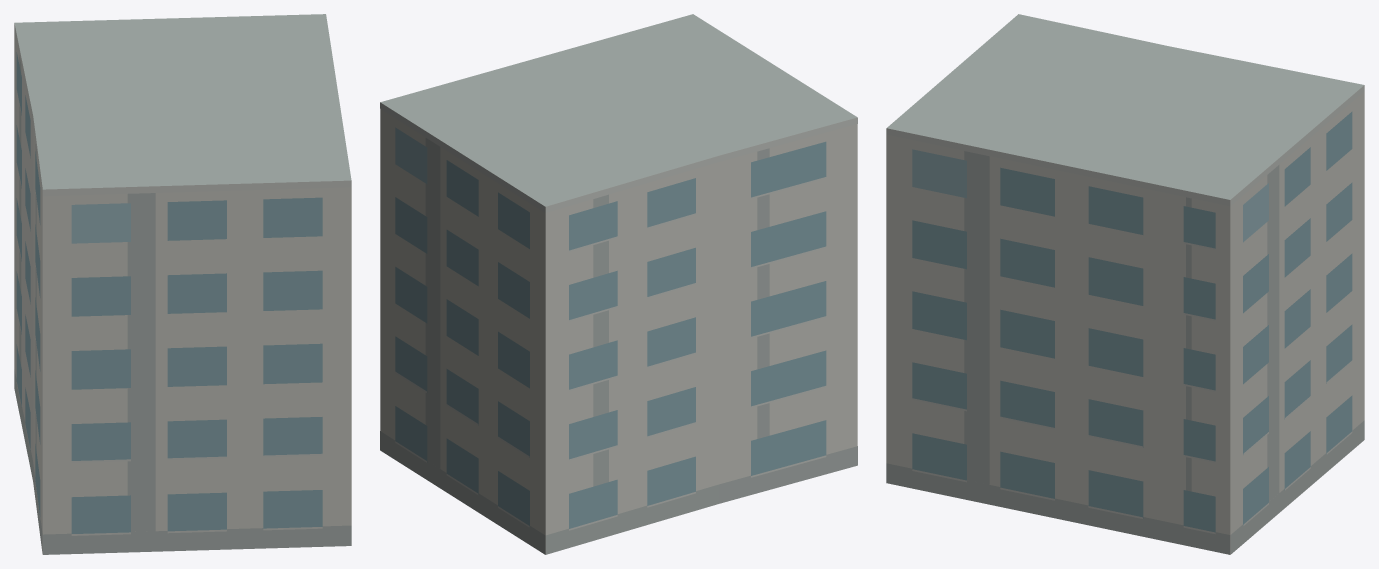
File: survey-upis-32733921.glb
The picture shows the model from 3 angles, left to right: view 1: azimuth 30°, elevation 25°; view 2: azimuth 150°, elevation 25°; view 3: azimuth 270°, elevation 25°; orthographic projection. The views are drawn at different scales.
Parts seen in each view (by area): view 1: survey-upis-32733921.tmp; view 2: survey-upis-32733921.tmp; view 3: survey-upis-32733921.tmp.
Boxes of the visible parts, x1=… form: survey-upis-32733921.tmp: x1=14, y1=14, x2=351, y2=554; survey-upis-32733921.tmp: x1=380, y1=14, x2=857, y2=554; survey-upis-32733921.tmp: x1=886, y1=14, x2=1364, y2=554.
Bounding box in the file's own units: 14.84 × 13.2 × 16.12.
